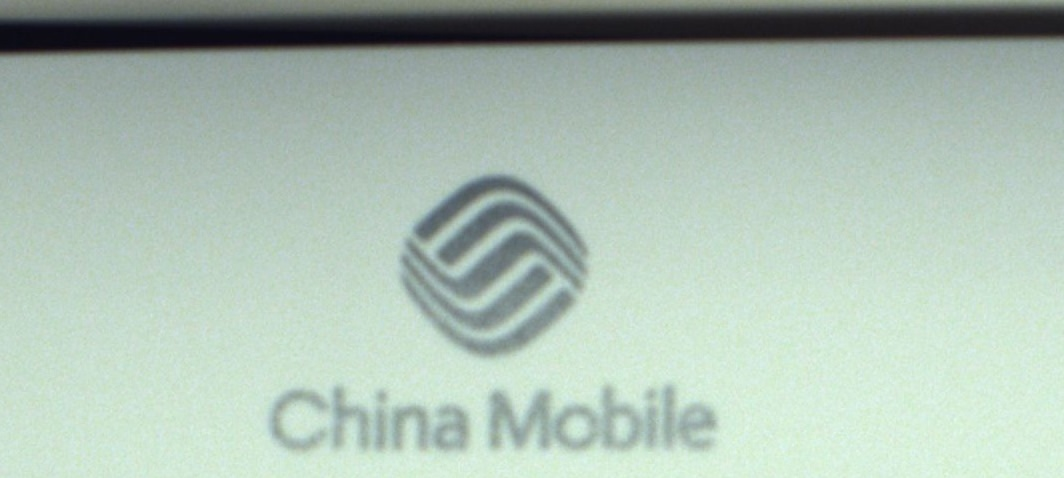AA_ChinaMobile: (264, 169, 723, 457)
